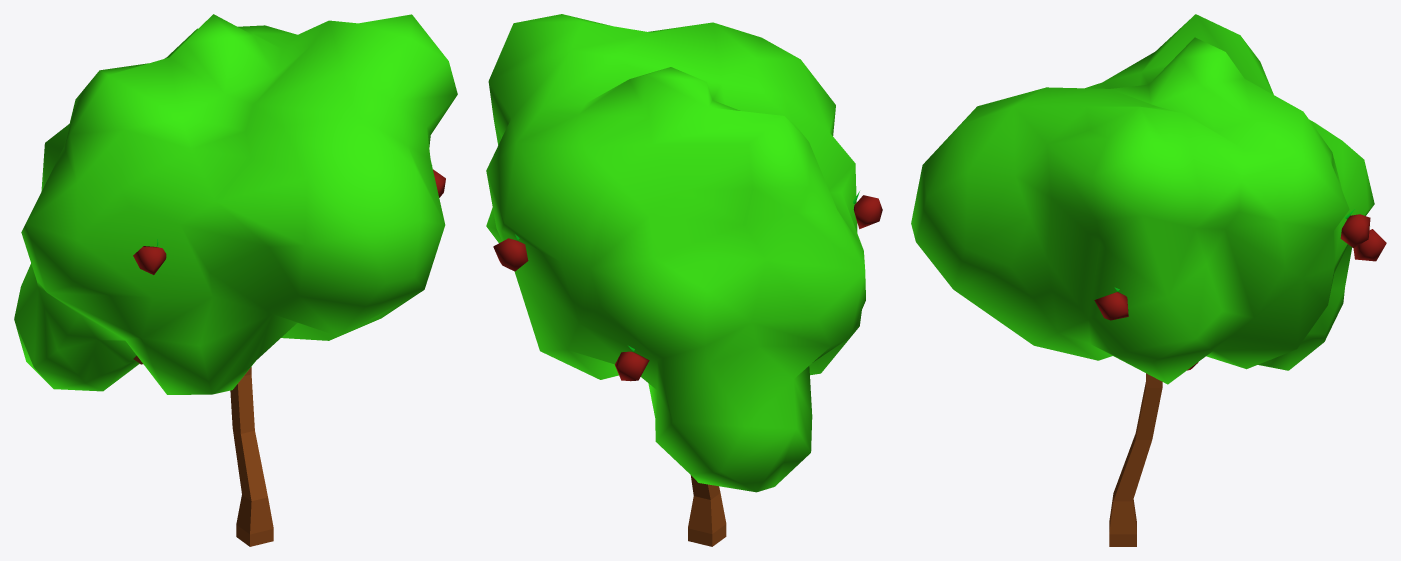
The model's file is SM_AppleTree_001_LOD3.fbx.
The picture shows the model from 3 angles, left to right: view 1: azimuth 30°, elevation 25°; view 2: azimuth 150°, elevation 25°; view 3: azimuth 270°, elevation 25°; orthographic projection. The views are drawn at different scales.
Parts seen in each view (by area): view 1: AppleTree; view 2: AppleTree; view 3: AppleTree.
Part boxes in pixels (left/top/right/bottom): AppleTree: left=14, top=14, right=457, bottom=546; AppleTree: left=486, top=14, right=882, bottom=546; AppleTree: left=911, top=14, right=1386, bottom=546.
Size of the model in its own units: 323 by 385 by 336.
